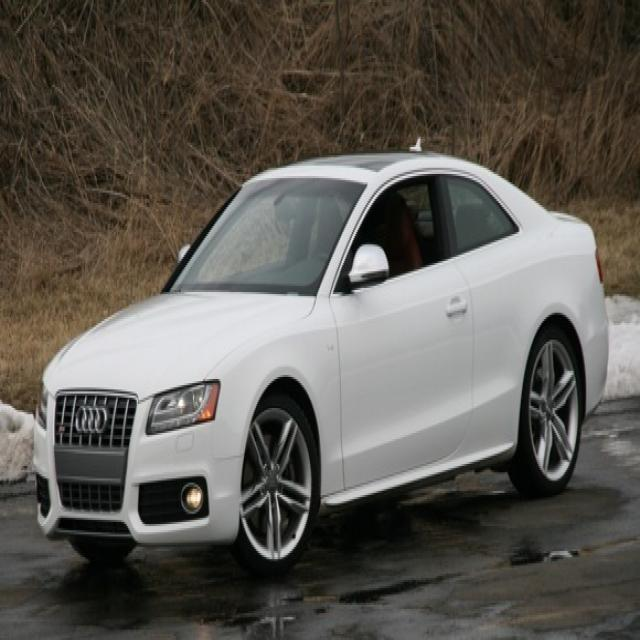Car: (32, 89, 640, 582)
